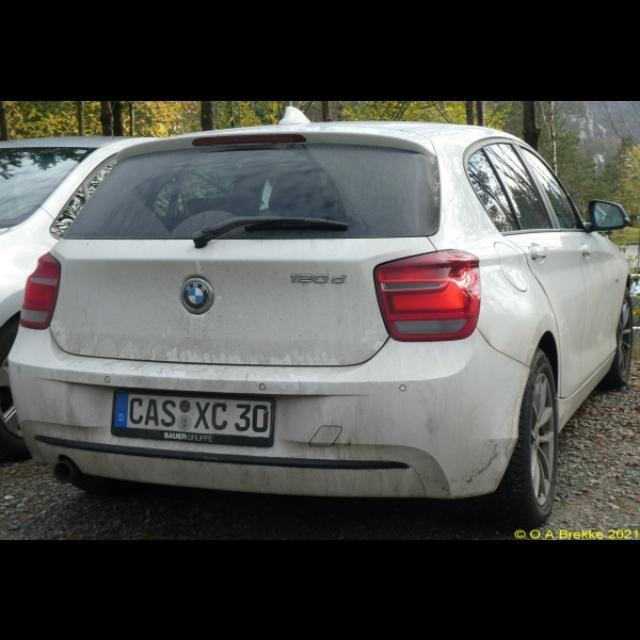license-plates: (111, 392, 271, 446)
